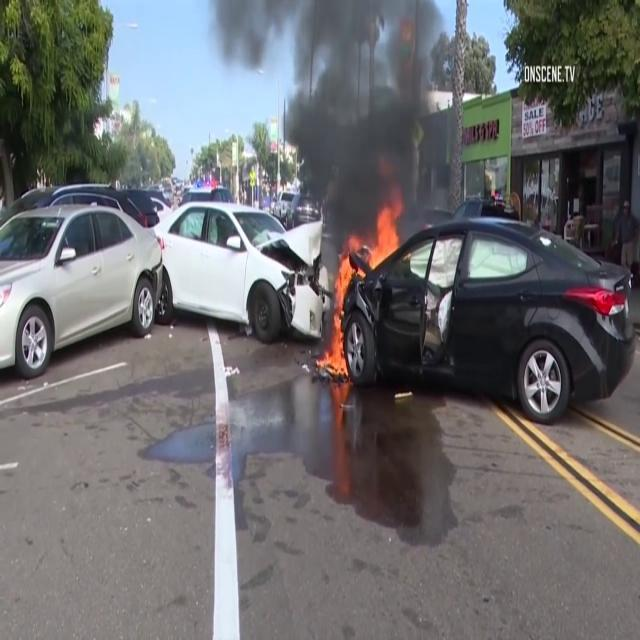Fire: (324, 256, 356, 370), (356, 203, 406, 270)
Smoke: (228, 0, 468, 236)
